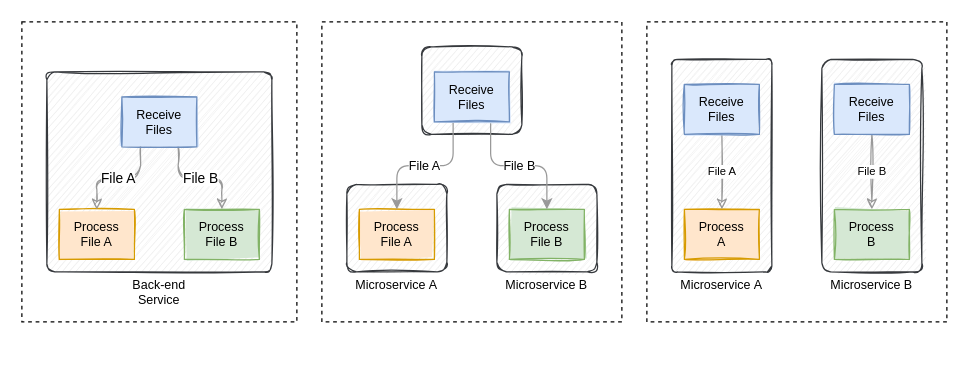
Image size: 969x368. Some labels were removed from this diagram. The shapes that lost their labels are listed below. From the top down, each one's box as (x1, y1, x2, y2) in pixels, then its label:
(421, 46, 522, 134): Microservice
(21, 21, 297, 322): Monolith
(321, 21, 622, 322): Distributed Monolith
(646, 21, 947, 322): Microservices
